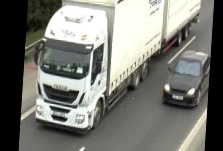truck: (33, 0, 201, 141)
